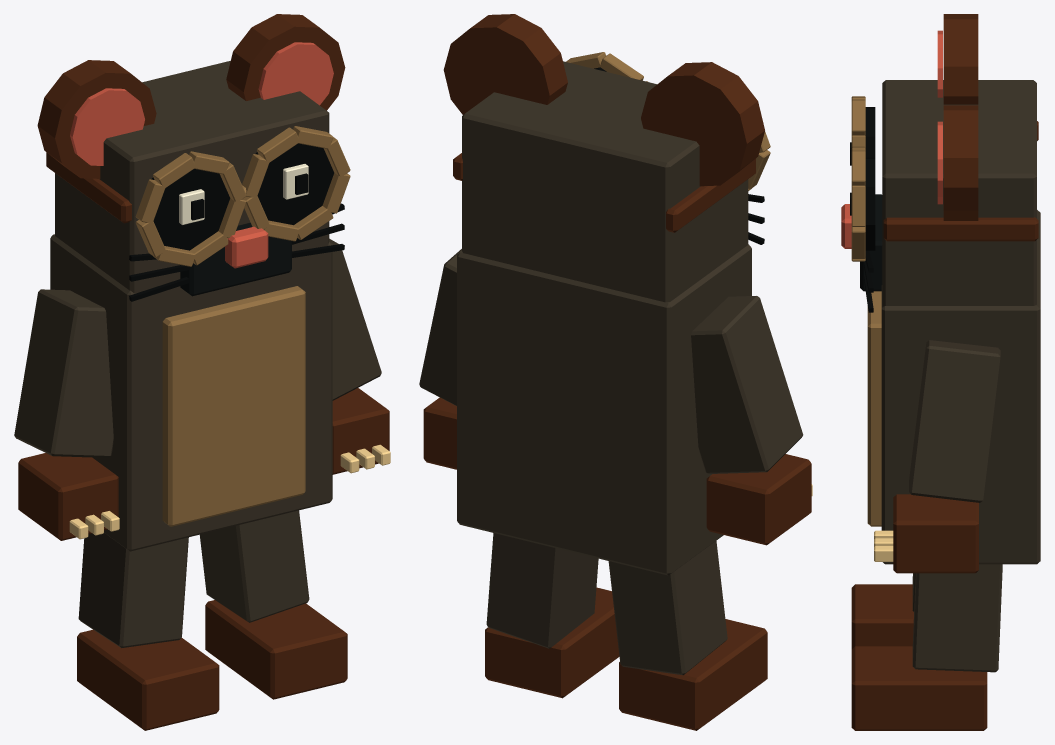
Rendered from TalpaDiFero_Mini.glb.
3 views of the same model, side by side, from view 1: azimuth 30°, elevation 25°; view 2: azimuth 150°, elevation 25°; view 3: azimuth 270°, elevation 25° (orthographic). The views are drawn at different scales.
Parts seen in each view (by area): view 1: TalpaDiFero_Mini; view 2: TalpaDiFero_Mini; view 3: TalpaDiFero_Mini.
Boxes of the visible parts, left/top/right/bottom form: TalpaDiFero_Mini: left=14, top=14, right=390, bottom=730; TalpaDiFero_Mini: left=419, top=14, right=812, bottom=730; TalpaDiFero_Mini: left=841, top=14, right=1040, bottom=730.
Size of the model in its own units: 1.12 by 2 by 0.5842.
Materials: 1 (1 with a texture image).
